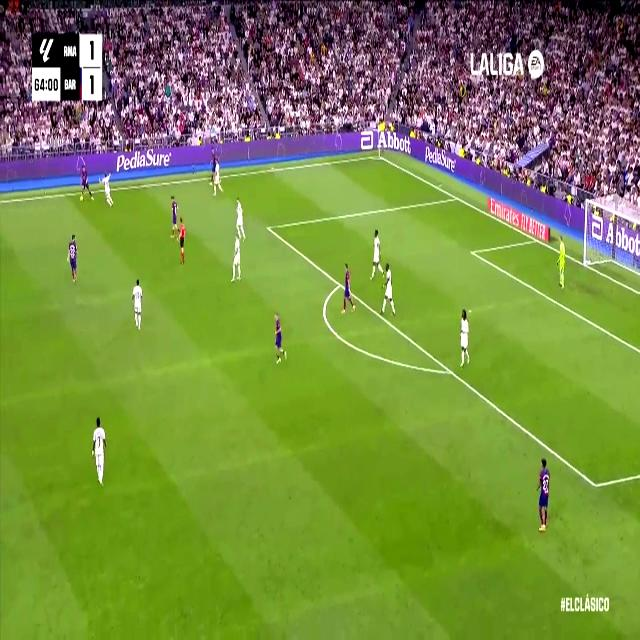bigarea_bottom_inner: (589, 469, 602, 500)
bigarea_top_inner: (264, 218, 272, 236)
bigarea_top_outter: (452, 190, 460, 204)
bottom_arc_area_intersection: (445, 359, 455, 381)
corner: (374, 150, 384, 161)
smallarea_top_inner: (468, 244, 476, 259)
top_arc_area_intersection: (336, 276, 344, 292)
